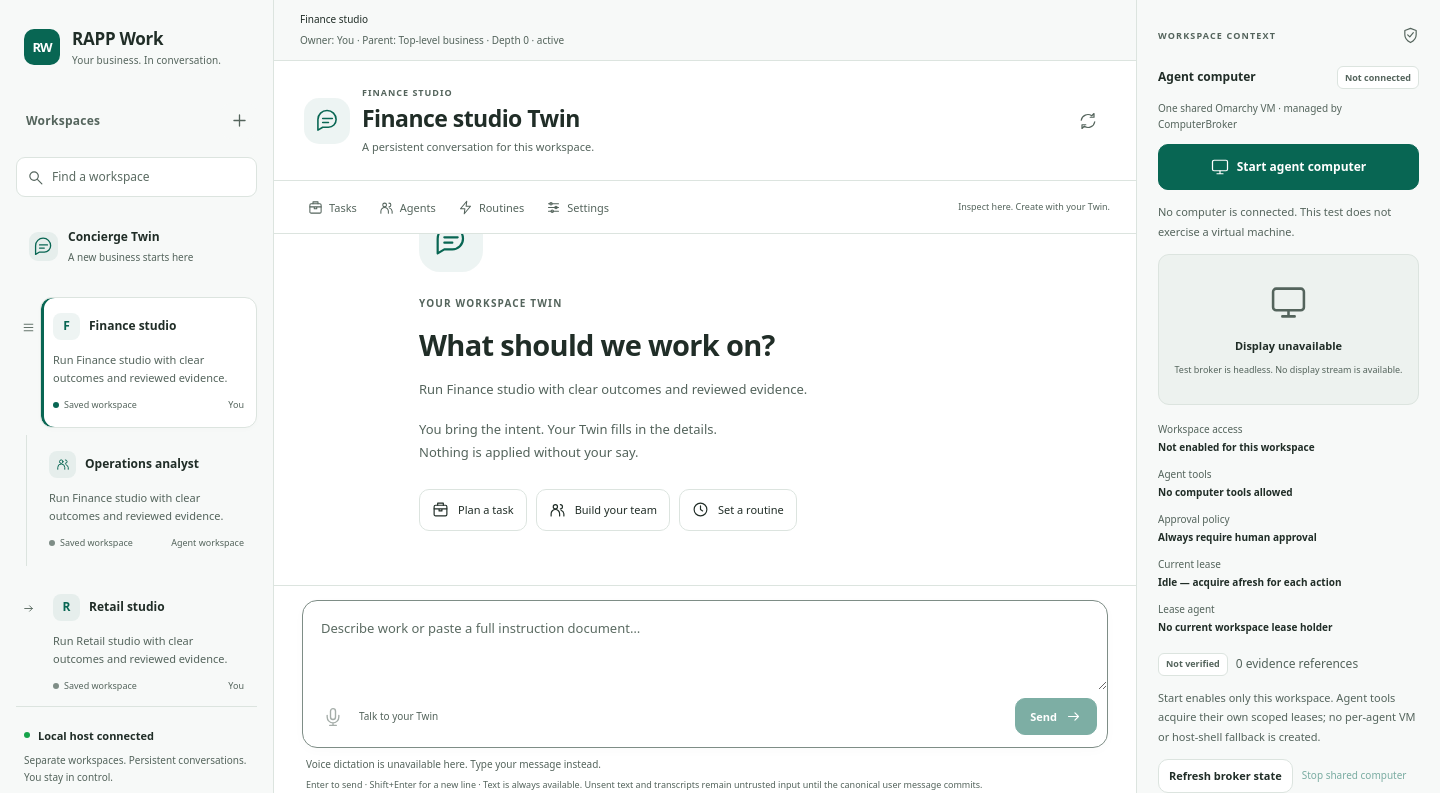
Test: foreground, user-started voice dictation › offers an honest unavailable speech state and a working text fallback
(page scrolled)
Expected: the heading "Finance studio Twin" is shown, [362, 103, 594, 134]
Expected: the button named "Start voice dictation" is disabled, [313, 697, 353, 737]
Type "Review supplier invoices." into the text box named "Message your Work Twin" at (705, 645), box [303, 601, 1107, 690]
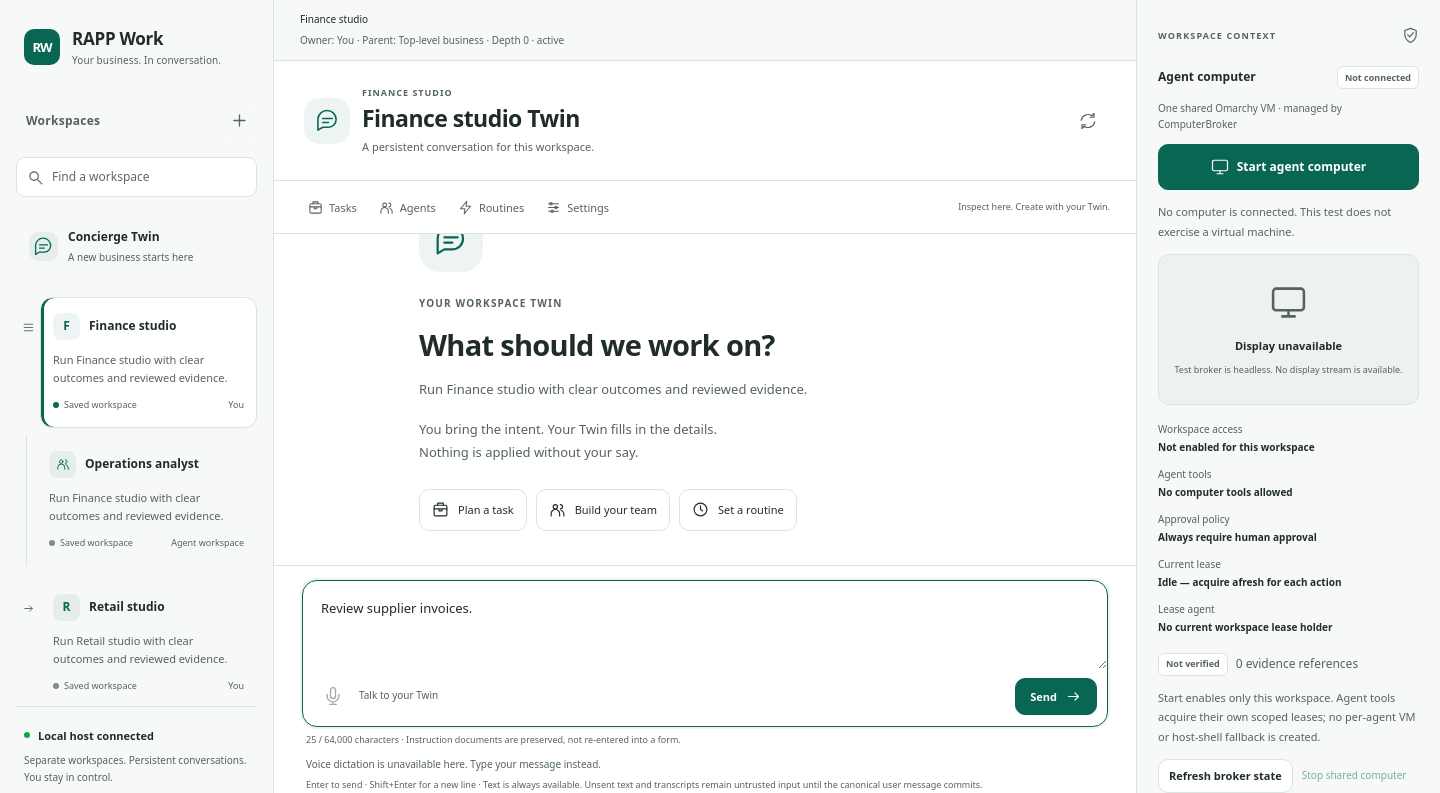
Click the button "Send" at (1056, 696), box [1015, 678, 1097, 715]
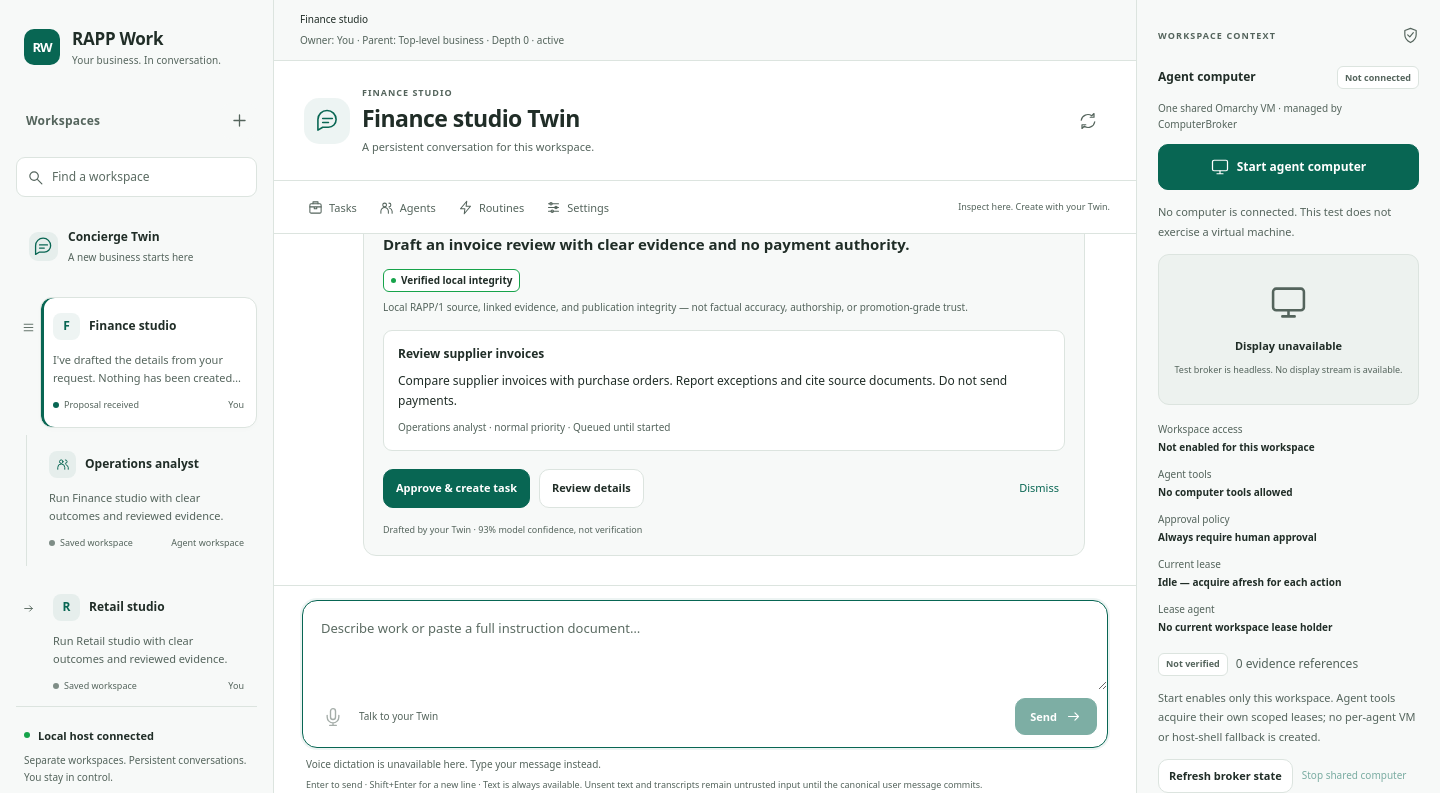
Result: the element named "Task proposal" is shown at [363, 234, 1085, 556]
